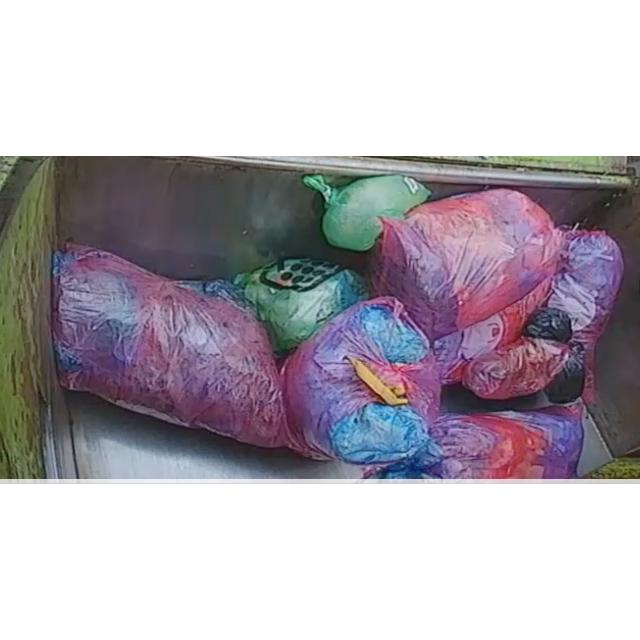general_trashbag: (234, 258, 368, 354), (302, 175, 431, 251)
other_trashbag: (52, 244, 288, 447), (371, 188, 562, 341), (461, 231, 624, 404), (284, 297, 441, 464), (381, 402, 584, 478), (434, 276, 552, 384)
